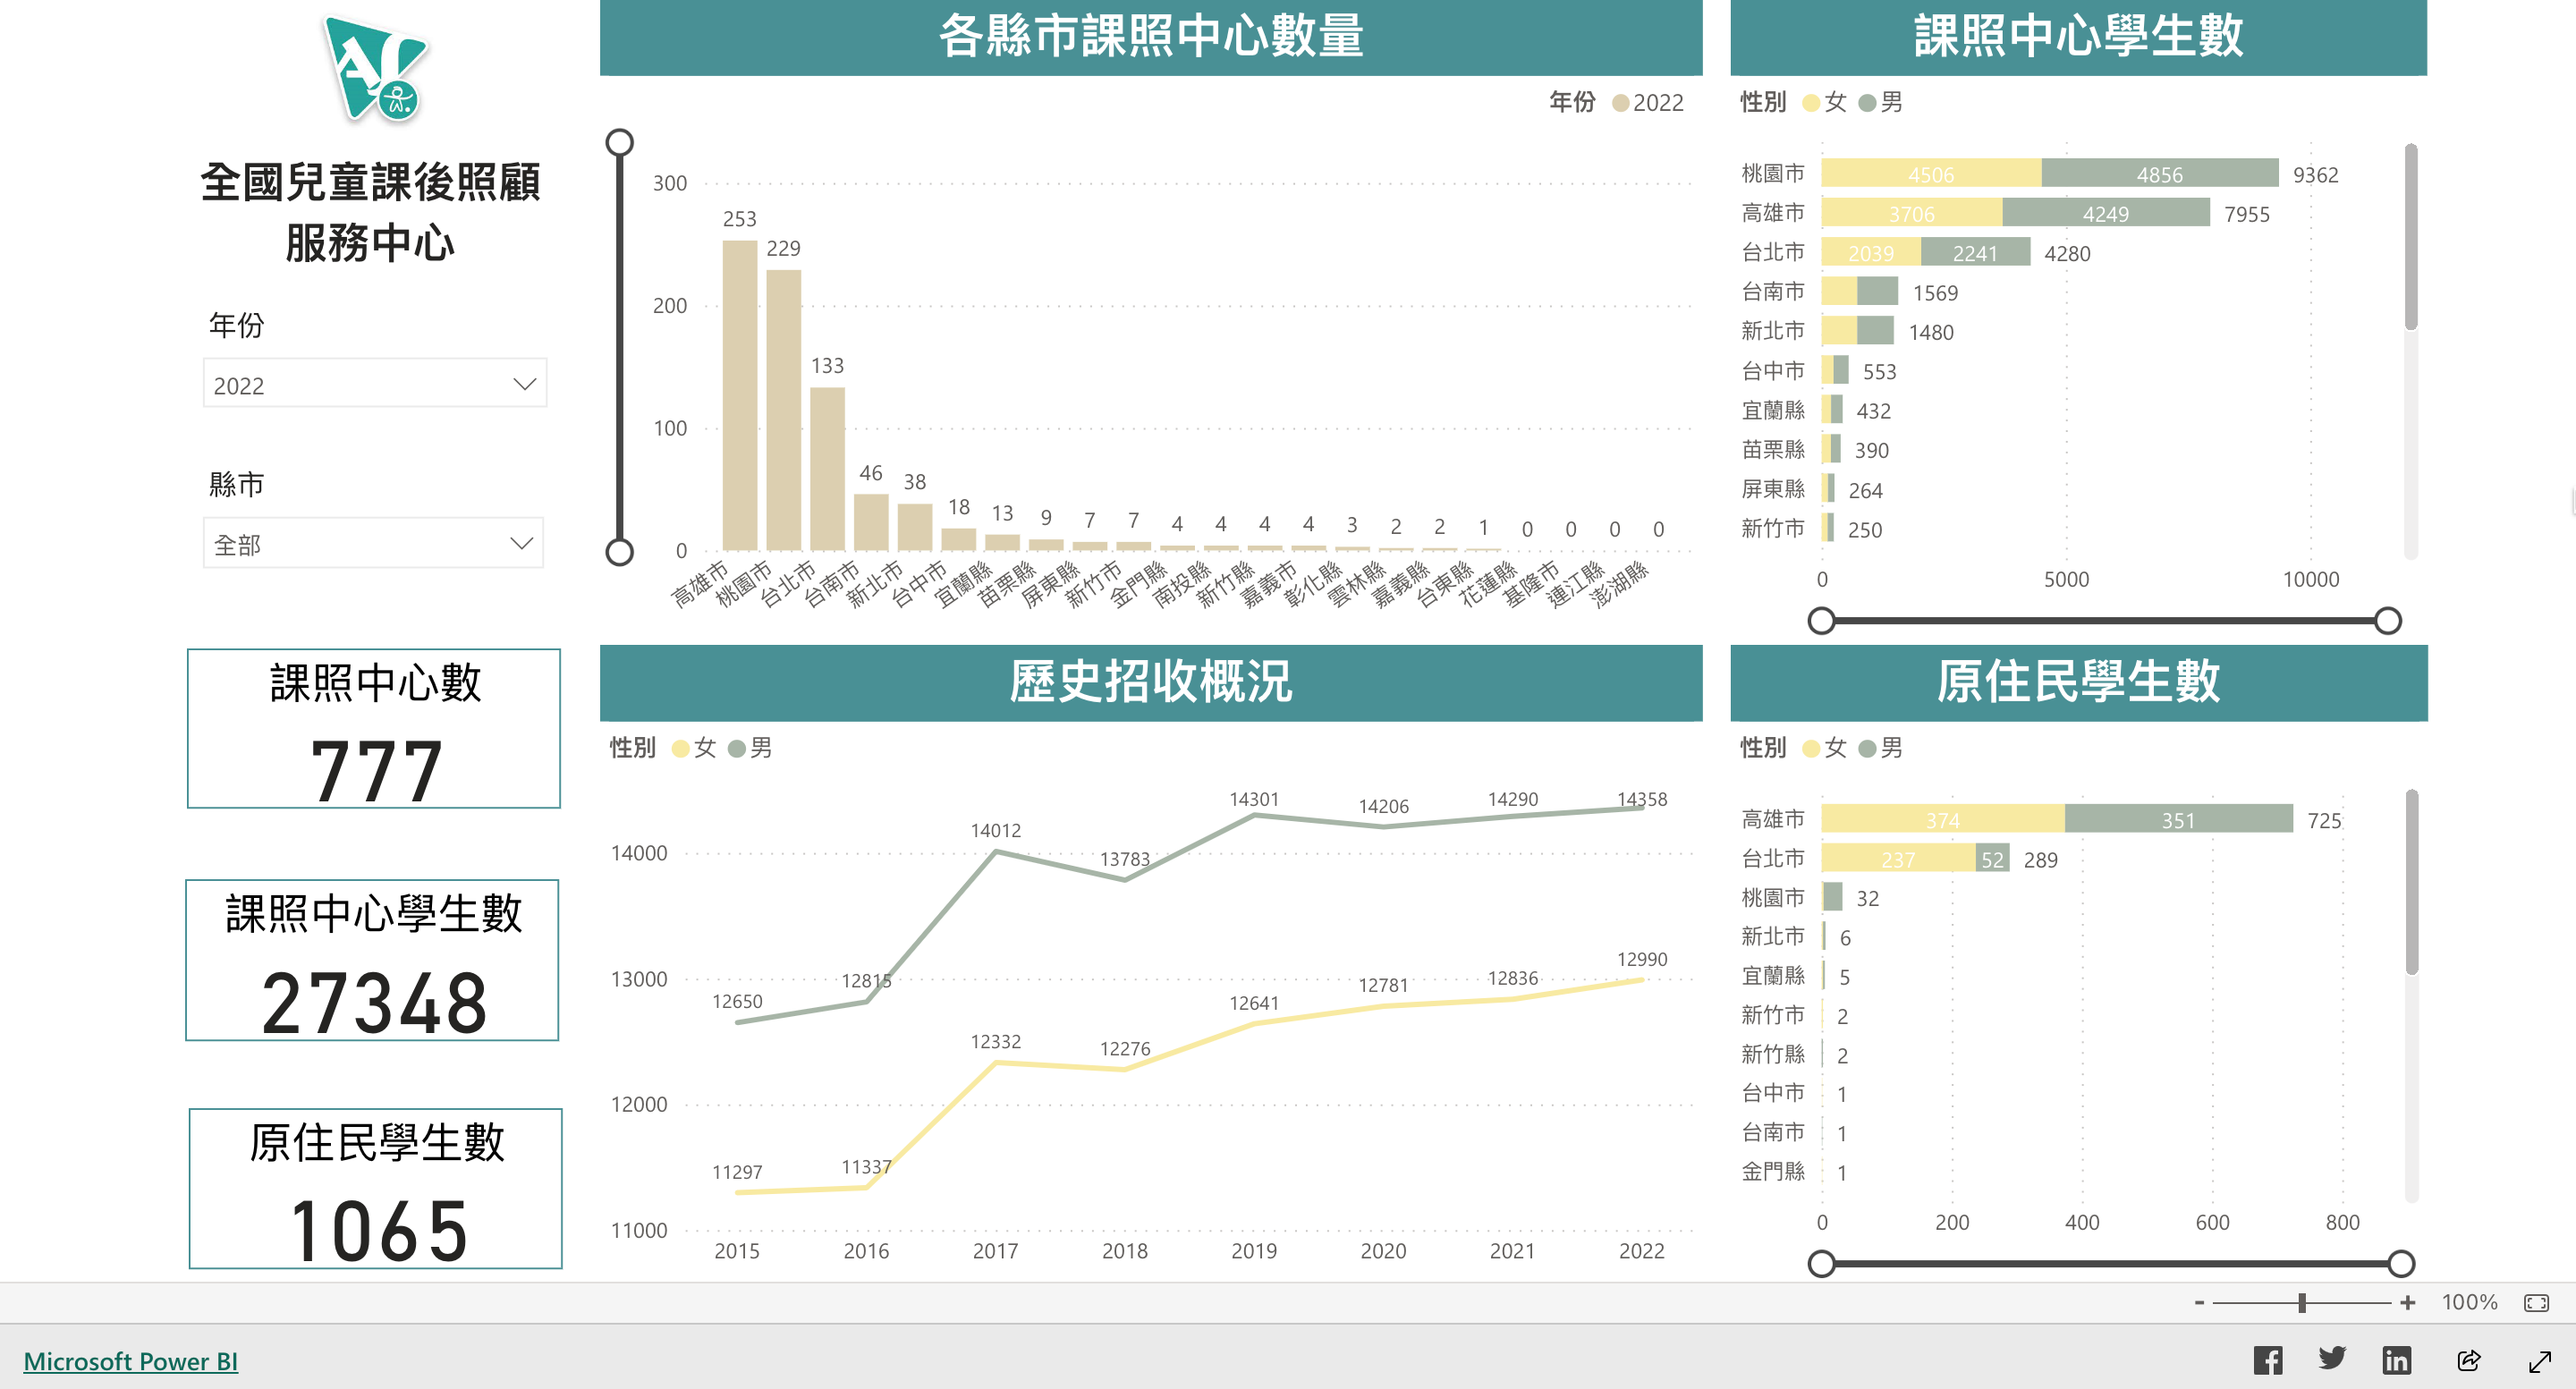

The dashboard page shown, as its layout file describes it:
{"tool":"powerbi","page":{"name":"學生概況","canvas":[1280,720],"ordinal":0},"visuals":[{"type":"clusteredColumnChart","title":"各縣市課照中心數量","fields":{"Category":["中心數.縣市"],"Y":["中心數.數量"],"Series":["中心數.年份"]},"box":[254.5,0,618.8,362.4],"z":0},{"type":"lineChart","title":"歷史招收概況","fields":{"Y":["人數.人數"],"Series":["人數.性別"],"Category":["人數.年份"]},"box":[254.5,362.4,618.8,358.6],"z":1000},{"type":"barChart","title":"原住民學生數","fields":{"Y":["原住民.人"],"Series":["原住民.性別"],"Category":["原住民.縣市"]},"box":[888.7,362.4,391.3,358.6],"z":2000},{"type":"barChart","title":"課照中心學生數","fields":{"Series":["人數.性別"],"Y":["人數.人數"],"Category":["人數.縣市"]},"box":[889.1,0,390.9,359.9],"z":3000},{"type":"slicer","fields":{"Values":["year2.年份"]},"box":[21.4,166.3,213.4,84.9],"z":4000},{"type":"slicer","fields":{"Values":["city.縣市"]},"box":[21.4,256.3,211.7,84.9],"z":5000},{"type":"image","box":[78.4,0,99.3,79.8],"z":6000},{"type":"textbox","box":[15.4,79,219.8,82.9],"z":7000},{"type":"card","title":"課照中心數","fields":{"Values":["中心數.數量"]},"box":[22.3,364.3,210,90],"z":8000},{"type":"card","title":"課照中心學生數","fields":{"Values":["人數.人數"]},"box":[21.4,493.7,210,90.9],"z":9000},{"type":"card","title":"原住民學生數","fields":{"Values":["原住民.人數"]},"box":[23.1,622.7,210.1,90.6],"z":10000}]}

Visuals, with their boxes on the page's 1280x720 design canvas (x1, y1, x2, y2). These are canvas units, not pixel positions in the 2576x1389 screenshot, which may show the page scaled, cropped or inside an application window:
"各縣市課照中心數量" clusteredColumnChart: locate(254, 0, 873, 362)
"歷史招收概況" lineChart: locate(254, 362, 873, 721)
"原住民學生數" barChart: locate(889, 362, 1280, 721)
"課照中心學生數" barChart: locate(889, 0, 1280, 360)
slicer - year2.年份: locate(21, 166, 235, 251)
slicer - city.縣市: locate(21, 256, 233, 341)
image: locate(78, 0, 178, 80)
textbox: locate(15, 79, 235, 162)
"課照中心數" card: locate(22, 364, 232, 454)
"課照中心學生數" card: locate(21, 494, 231, 585)
"原住民學生數" card: locate(23, 623, 233, 713)
